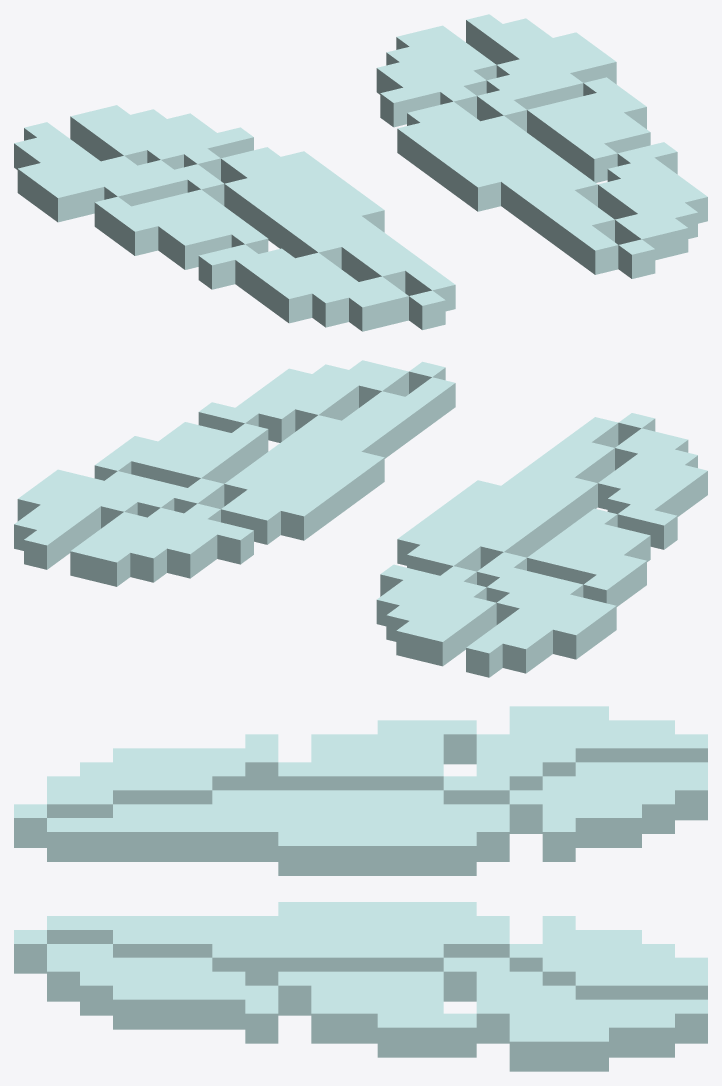
The model's file is BeeWings.obj.
3 renders of one model, top to bottom at view 1: azimuth 30°, elevation 25°; view 2: azimuth 150°, elevation 25°; view 3: azimuth 270°, elevation 25°, orthographic. The views are drawn at different scales.
Size of the model in its own units: 2.4 by 0.1 by 2.1.
Materials: 1 (1 with a texture image).
